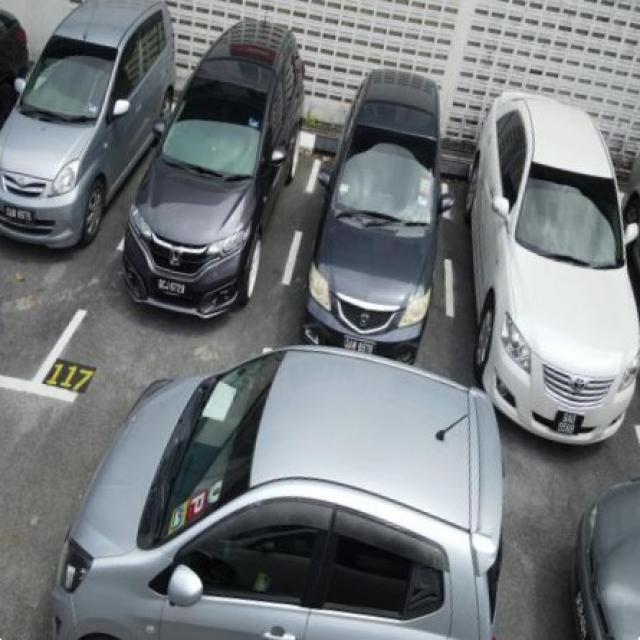Legalparking: (0, 0, 640, 428)
illegalparking: (34, 319, 548, 640)
